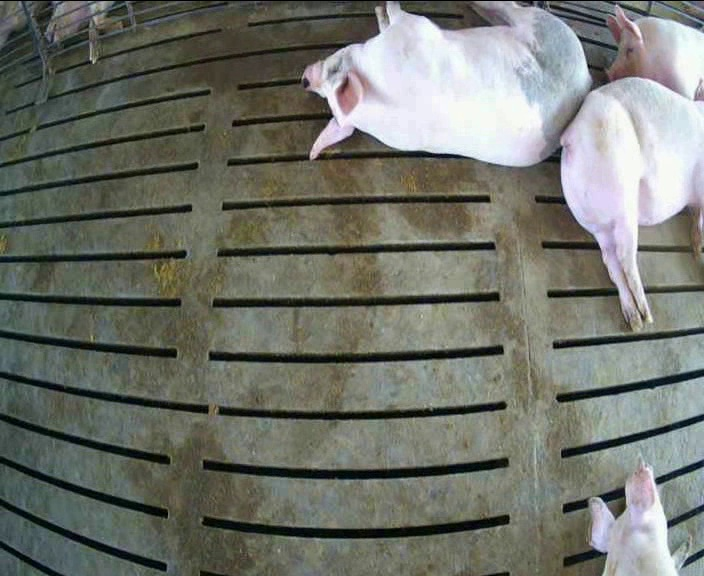pig: (303, 2, 590, 165), (561, 78, 703, 330), (607, 5, 703, 100)
